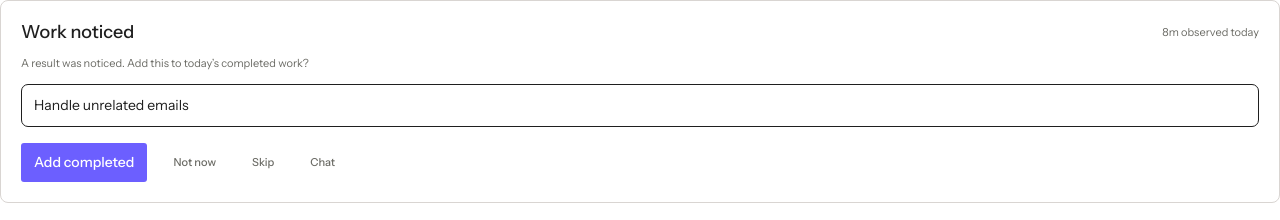
Scenario: starts a fresh draft for a new offer and ignores completion of the old offer
Replace the text in the field with "Customer emails" at coordinates (640, 106), box [21,84,1259,127]
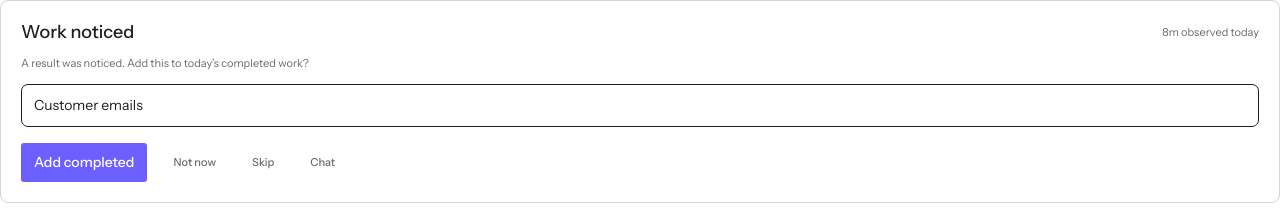
Click the button "Add completed" at coordinates (84, 162), box [21,143,147,182]
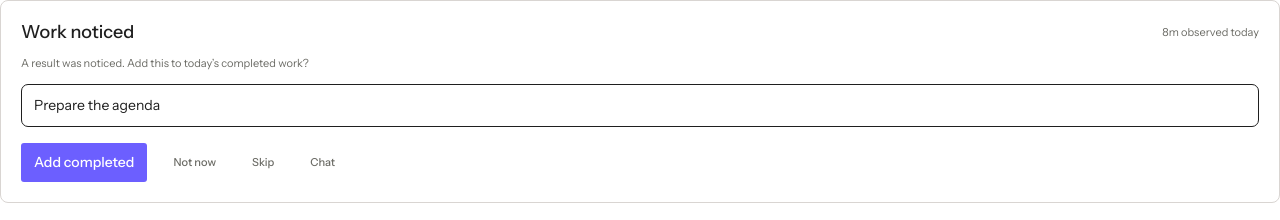
Expected: the field holds "Prepare the agenda", [21,84,1259,127]
